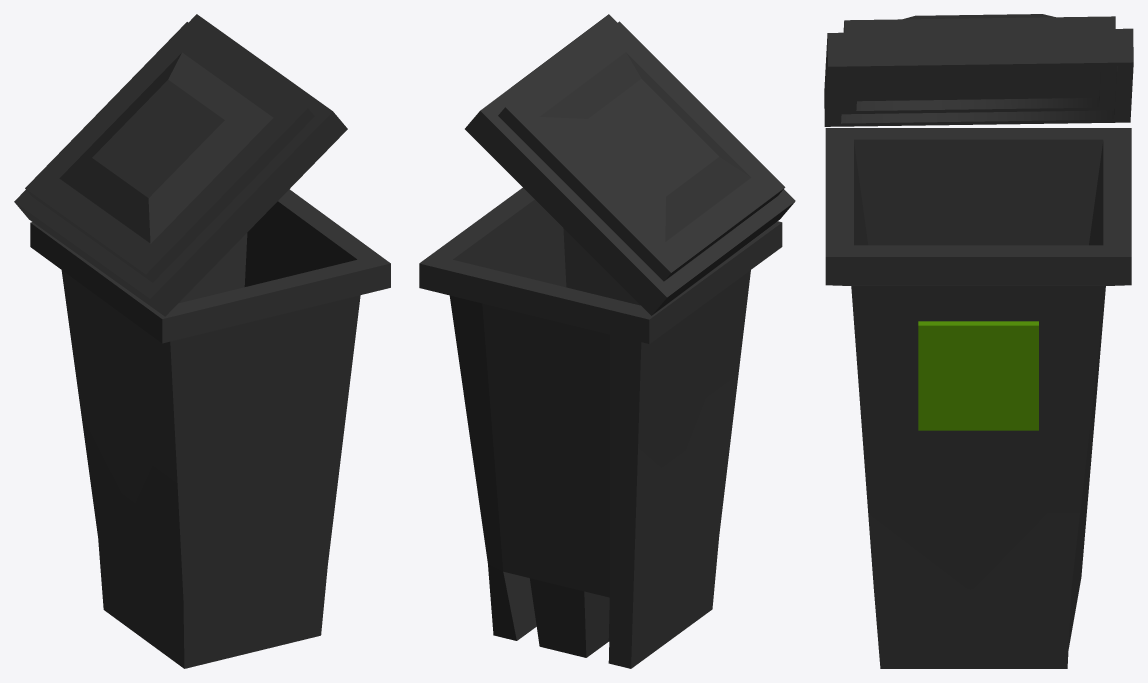
File: Bote de basura.fbx
3 views of the same model, side by side, from view 1: azimuth 30°, elevation 25°; view 2: azimuth 150°, elevation 25°; view 3: azimuth 270°, elevation 25° (orthographic). The views are drawn at different scales.
Visible parts, largest first — view 1: Cube.001; view 2: Cube.001; view 3: Cube.001, Cube.
Part boxes in pixels (left/top/right/bottom): Cube.001: left=14, top=14, right=390, bottom=668; Cube.001: left=419, top=14, right=795, bottom=668; Cube.001: left=824, top=14, right=1133, bottom=668; Cube: left=918, top=321, right=1038, bottom=430.
Size of the model in its own units: 544 by 1160 by 513.
